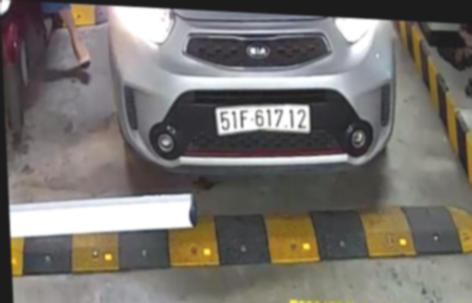License_Plate: (211, 93, 317, 143)
